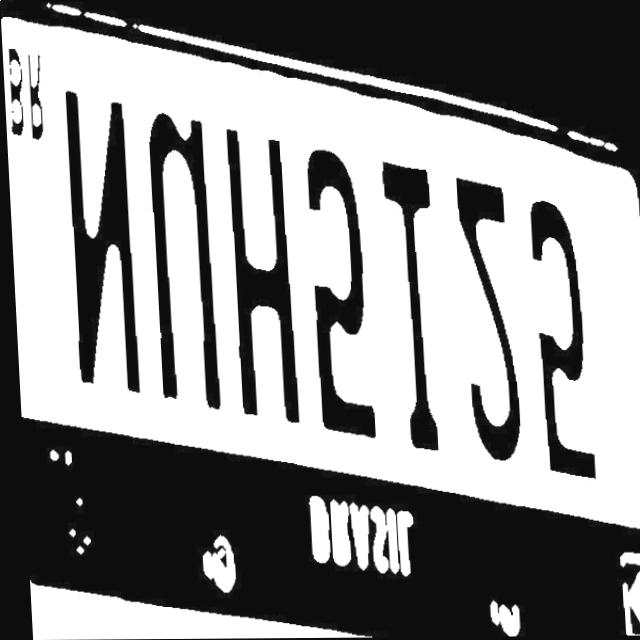2: (450, 180, 534, 473)
5: (305, 144, 379, 439), (525, 193, 596, 484)
h: (225, 118, 302, 421)
i: (375, 161, 450, 467)
n: (59, 86, 150, 413)
u: (140, 99, 230, 420)
